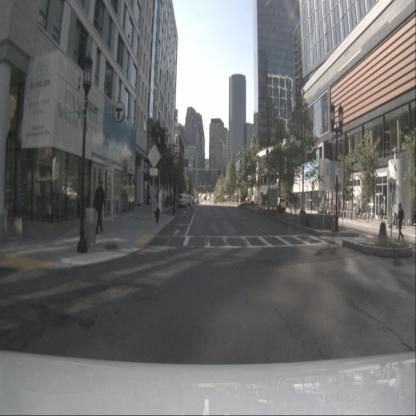cone: (289, 200, 295, 222), (332, 204, 336, 232), (271, 198, 275, 216)
